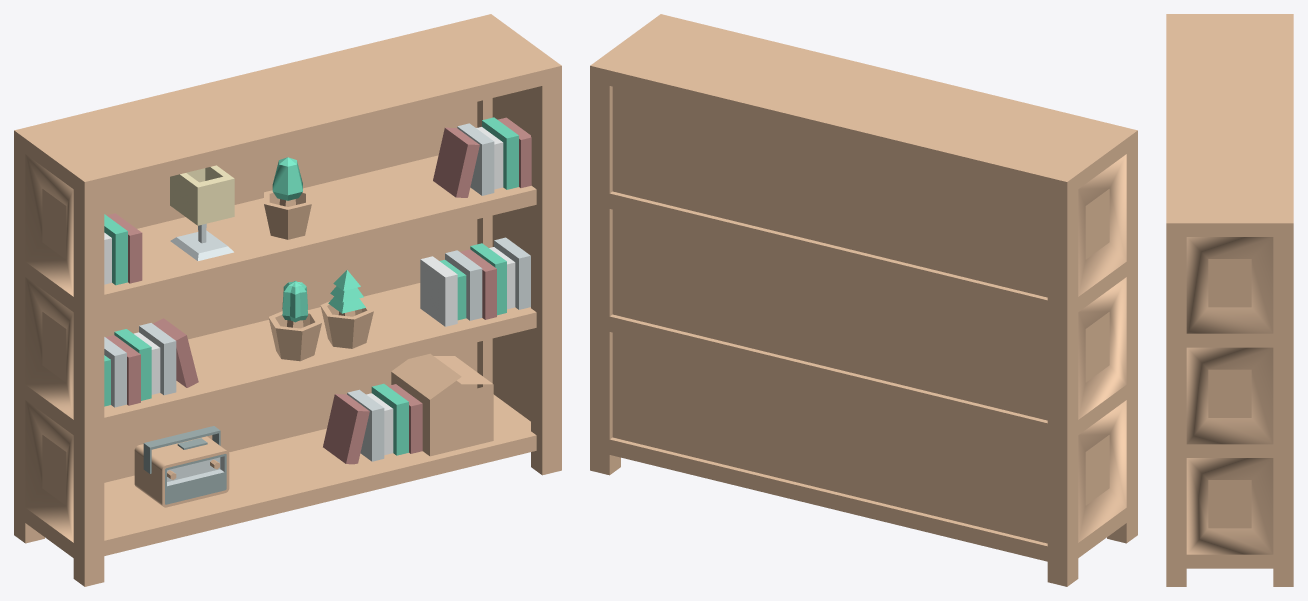
Rendered from libreria.glb.
3 renders of one model, left to right at view 1: azimuth 30°, elevation 25°; view 2: azimuth 150°, elevation 25°; view 3: azimuth 270°, elevation 25°, orthographic. The views are drawn at different scales.
Visible parts, largest first — view 1: bookcaseClosedWide, books, cardboardBoxClosed, radio, lampSquareTable, plantSmall2, plantSmall3, plantSmall1; view 2: bookcaseClosedWide; view 3: bookcaseClosedWide.
Part boxes in pixels (bbox=[...]): bookcaseClosedWide: bbox=[14, 14, 561, 586]; books: bbox=[104, 117, 531, 464]; cardboardBoxClosed: bbox=[391, 353, 493, 456]; radio: bbox=[134, 426, 229, 507]; lampSquareTable: bbox=[170, 165, 234, 260]; plantSmall2: bbox=[268, 281, 321, 361]; plantSmall3: bbox=[264, 157, 311, 239]; plantSmall1: bbox=[320, 270, 373, 348]; bookcaseClosedWide: bbox=[590, 14, 1137, 586]; bookcaseClosedWide: bbox=[1166, 14, 1293, 586].
Bounding box in the file's own units: 0.9741 × 0.79 × 0.25.
